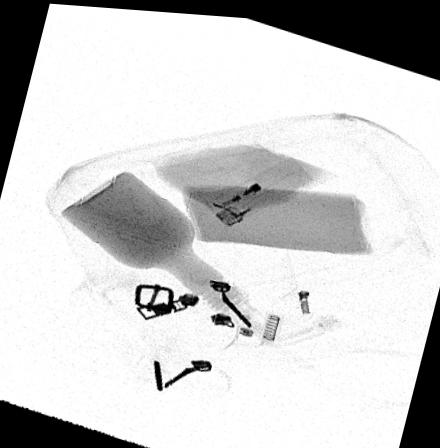Lighter: (200, 152, 317, 223)
